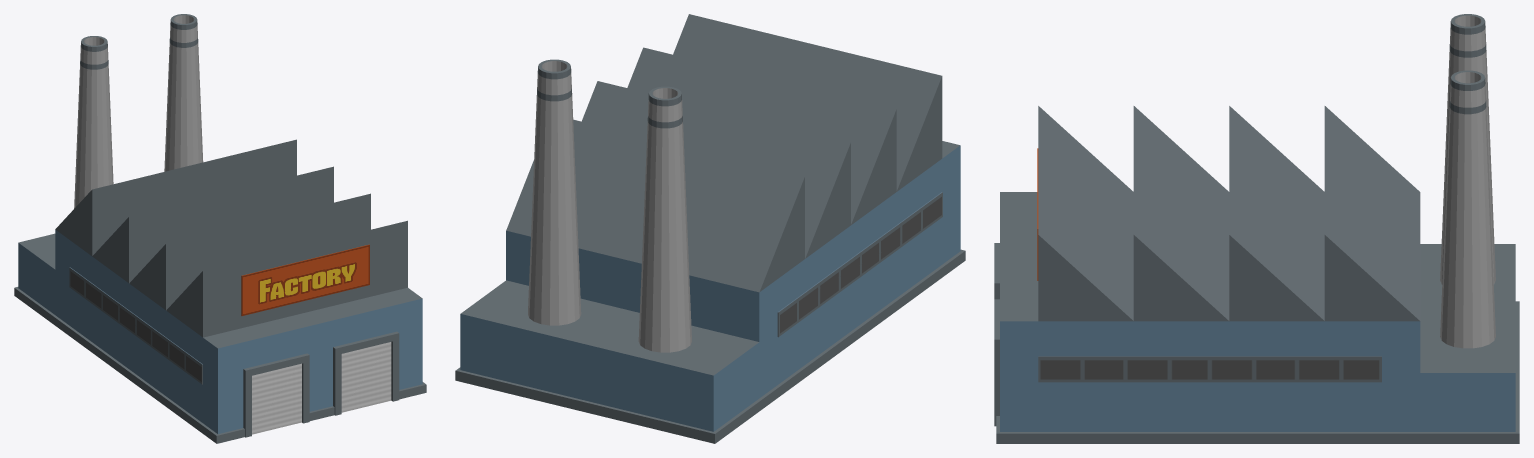
Rendered from building-factory.glb.
The picture shows the model from 3 angles, left to right: view 1: azimuth 30°, elevation 25°; view 2: azimuth 150°, elevation 25°; view 3: azimuth 270°, elevation 25°; orthographic projection. The views are drawn at different scales.
Visible parts, largest first — view 1: Building_Factory; view 2: Building_Factory; view 3: Building_Factory.
Part boxes in pixels (left/top/right/bottom): Building_Factory: left=14, top=14, right=426, bottom=443; Building_Factory: left=455, top=14, right=965, bottom=443; Building_Factory: left=994, top=14, right=1519, bottom=443.
Size of the model in its own units: 16.4 by 18.97 by 27.5.
Materials: 1 (1 with a texture image).
